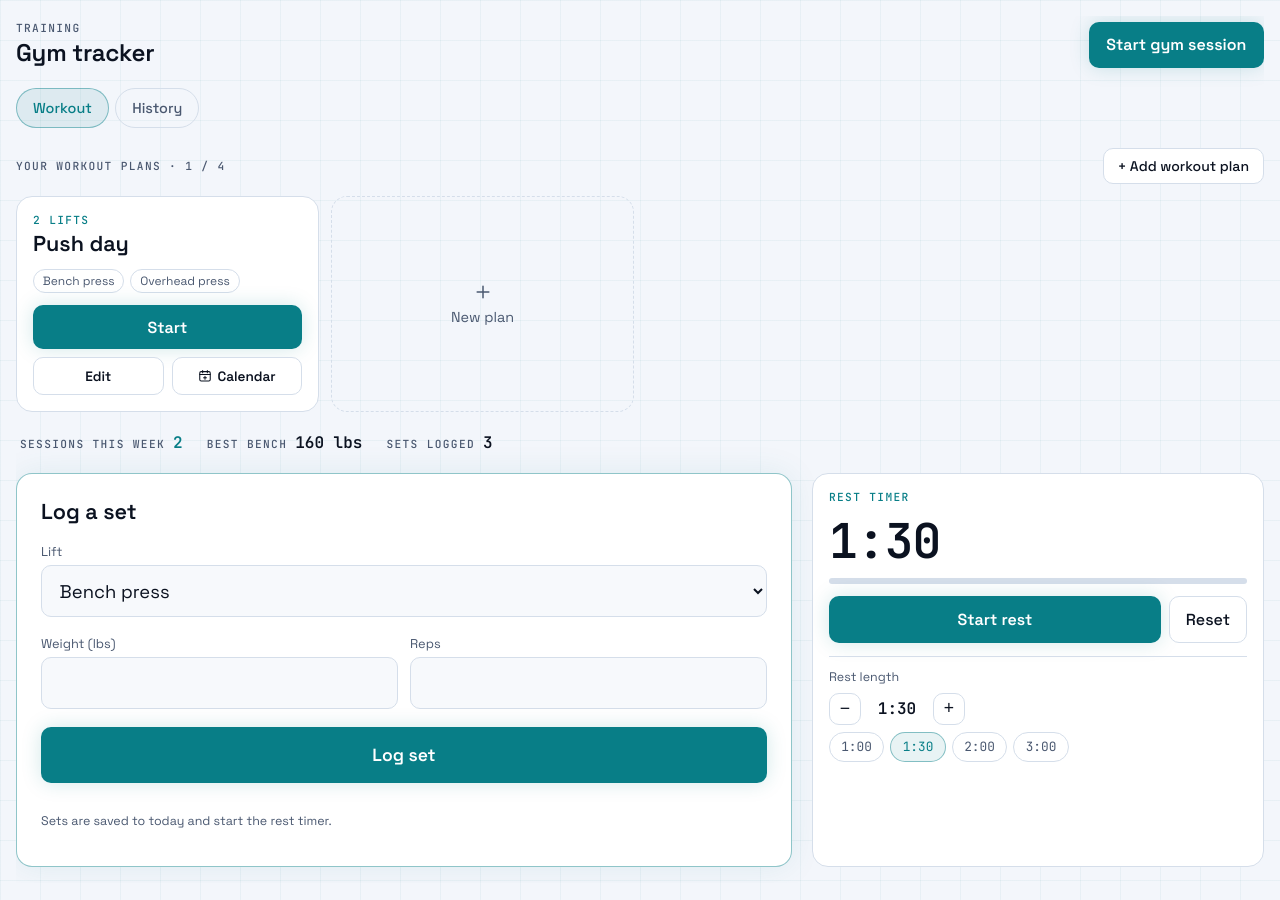
Test: Doing a workout › Start gym session asks which plan, then starts it
Click the button "Start gym session" at {"x": 1176, "y": 45}, box top-left (1089, 22), bottom-right (1264, 68)
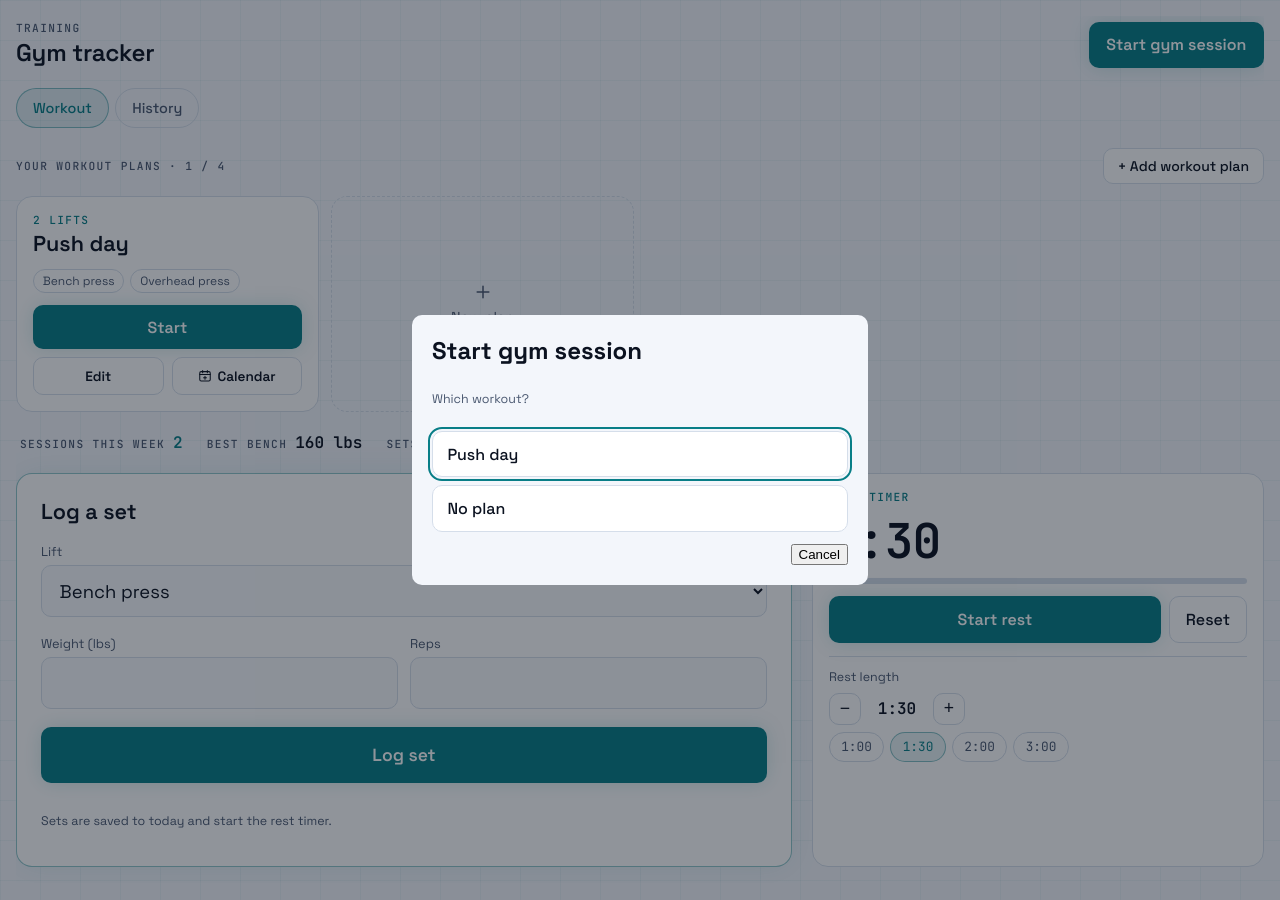
Click the button "Push day" at {"x": 483, "y": 454}, box top-left (432, 431), bottom-right (848, 478)
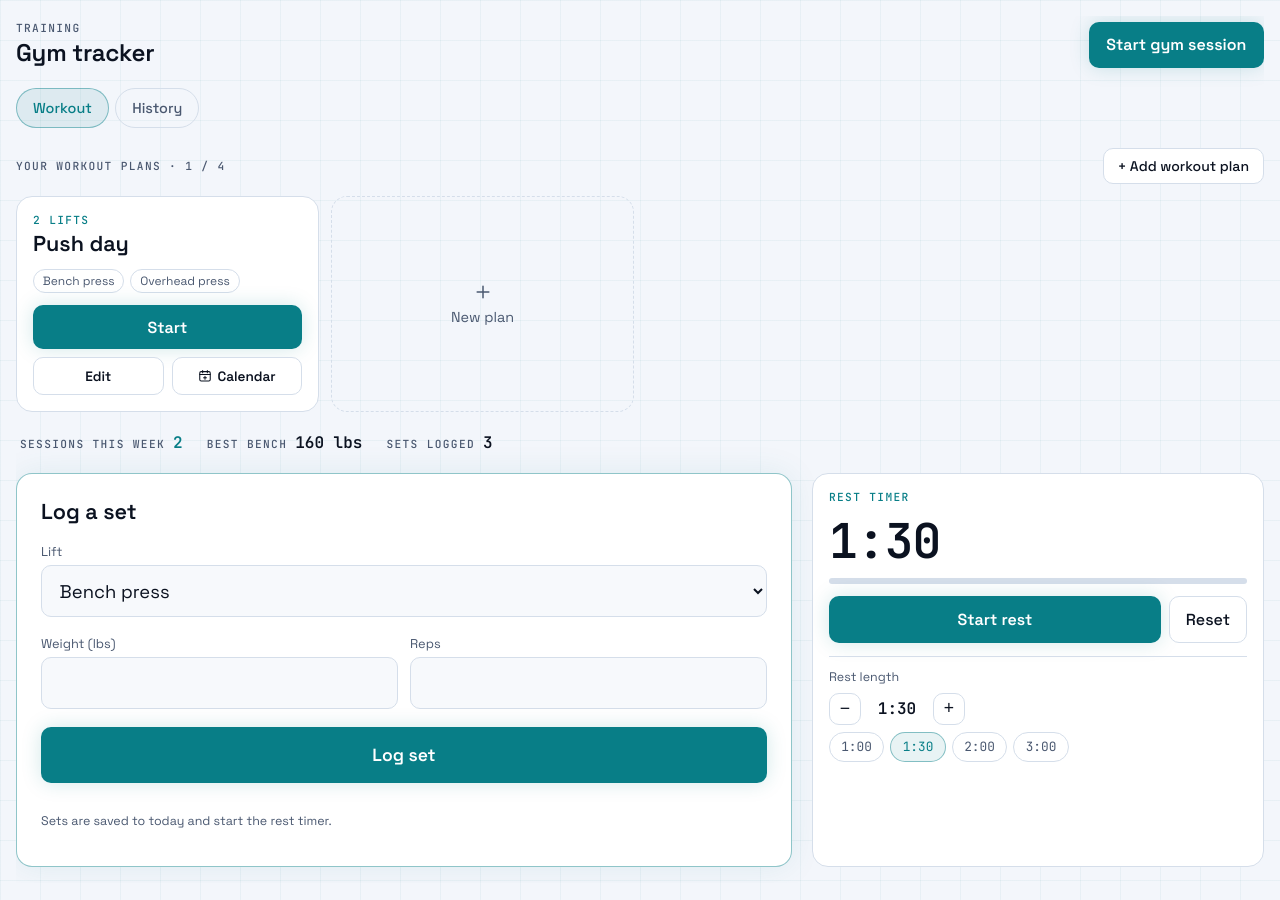
Expected: the dialog is gone
